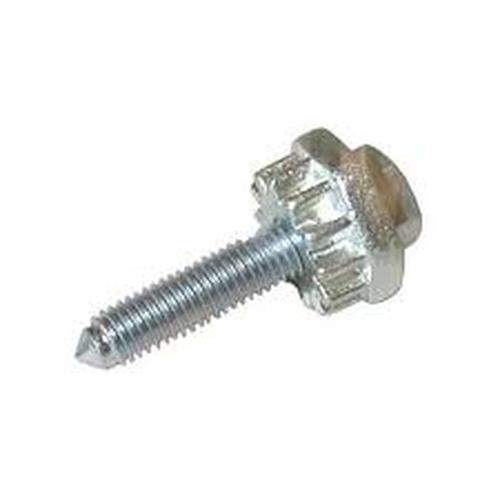Tornillo: (71, 125, 425, 371)
